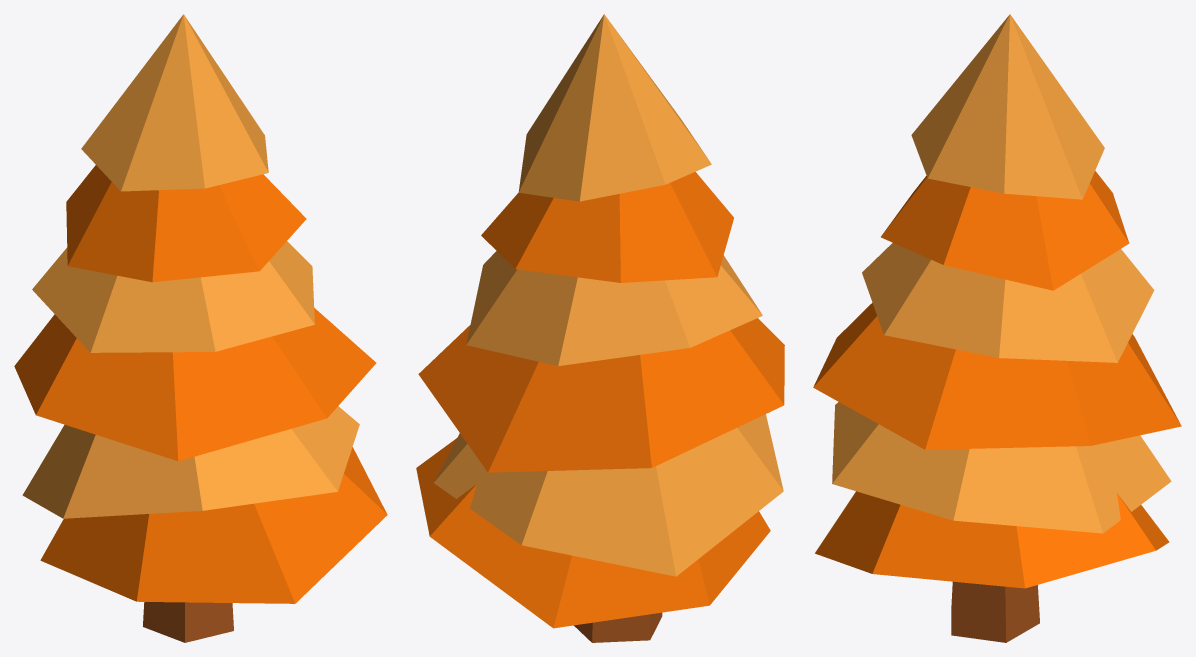
The model's file is Tree_23_Fall.fbx.
The picture shows the model from 3 angles, left to right: view 1: azimuth 30°, elevation 25°; view 2: azimuth 150°, elevation 25°; view 3: azimuth 270°, elevation 25°; orthographic projection. The views are drawn at different scales.
Visible parts, largest first — view 1: Tree_23_p2_Fall, Tree_23_p1_Fall; view 2: Tree_23_p2_Fall, Tree_23_p1_Fall; view 3: Tree_23_p2_Fall, Tree_23_p1_Fall.
Boxes of the visible parts, x1,y1,x2,y2 form: Tree_23_p2_Fall: (14, 14, 387, 603); Tree_23_p1_Fall: (143, 602, 233, 642); Tree_23_p2_Fall: (416, 14, 784, 628); Tree_23_p1_Fall: (574, 612, 662, 642); Tree_23_p2_Fall: (813, 14, 1181, 588); Tree_23_p1_Fall: (951, 581, 1039, 642).
Bounding box in the file's own units: 198 × 337 × 184.
